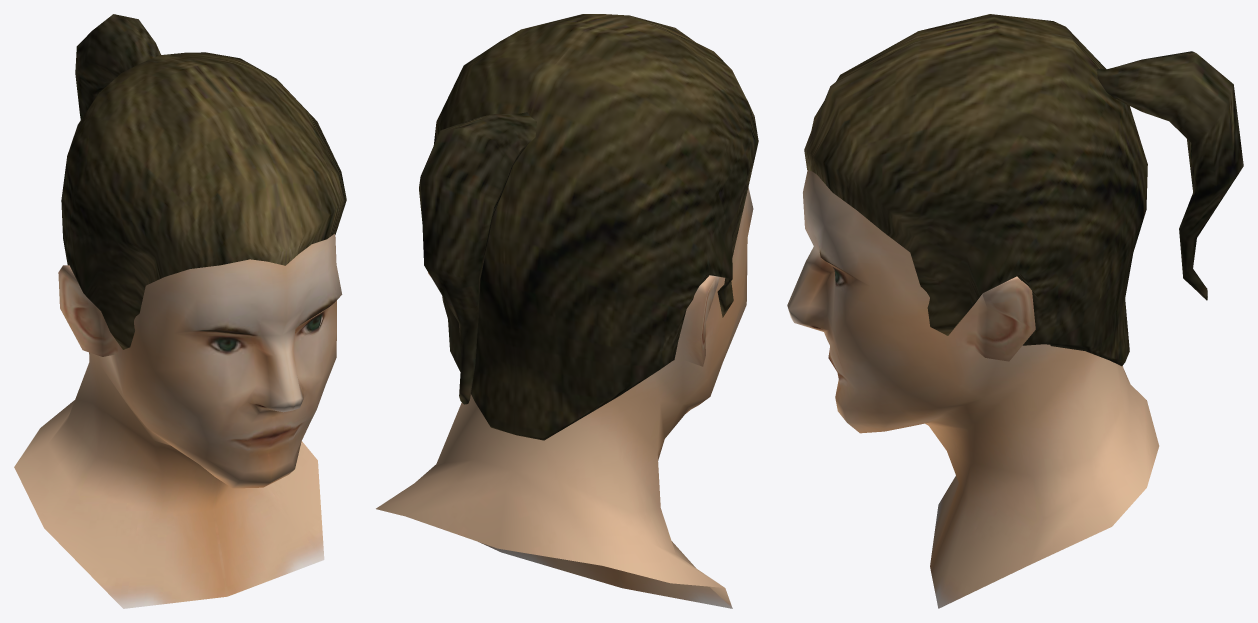
The model's file is HoloframHead_Lobby_Scene02.fbx.
The picture shows the model from 3 angles, left to right: view 1: azimuth 30°, elevation 25°; view 2: azimuth 150°, elevation 25°; view 3: azimuth 270°, elevation 25°; orthographic projection. The views are drawn at different scales.
Parts seen in each view (by area): view 1: HologramHead_Lobby_Scene02; view 2: HologramHead_Lobby_Scene02; view 3: HologramHead_Lobby_Scene02.
Boxes of the visible parts, x1,y1,x2,y2 form: HologramHead_Lobby_Scene02: [14, 14, 346, 608]; HologramHead_Lobby_Scene02: [376, 14, 758, 608]; HologramHead_Lobby_Scene02: [787, 14, 1243, 608].
Bounding box in the file's own units: 18.52 × 32.76 × 25.12.
